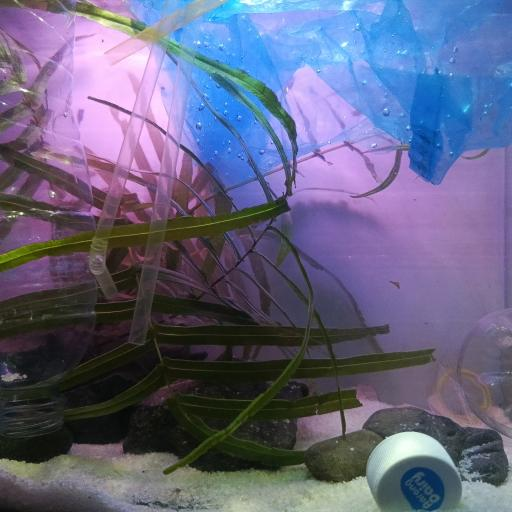bottle_cap: (368, 431, 462, 512)
plastic_bag: (130, 2, 512, 199)
plastic_bottle: (3, 0, 98, 444), (432, 307, 512, 435)
plastic_straw: (89, 0, 215, 297), (126, 44, 207, 348), (104, 3, 241, 68)
